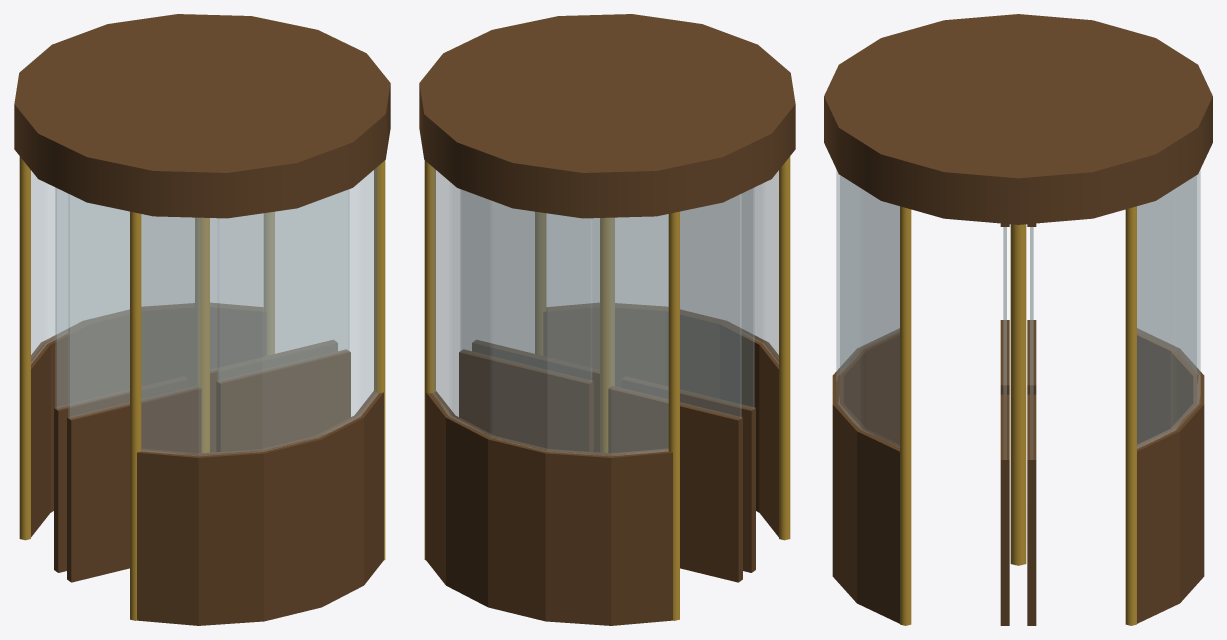
File: parametric-revolving_door-1st-pub.glb
3 views of the same model, side by side, from view 1: azimuth 30°, elevation 25°; view 2: azimuth 150°, elevation 25°; view 3: azimuth 270°, elevation 25° (orthographic). The views are drawn at different scales.
Parts seen in each view (by area): view 1: parametric-revolving_door-1st-pub; view 2: parametric-revolving_door-1st-pub; view 3: parametric-revolving_door-1st-pub.
Part boxes in pixels (x1,y1,x2,y2): parametric-revolving_door-1st-pub: [14, 14, 390, 625]; parametric-revolving_door-1st-pub: [419, 14, 795, 625]; parametric-revolving_door-1st-pub: [824, 14, 1212, 625].
Size of the model in its own units: 1.74 by 2.3 by 1.74.
